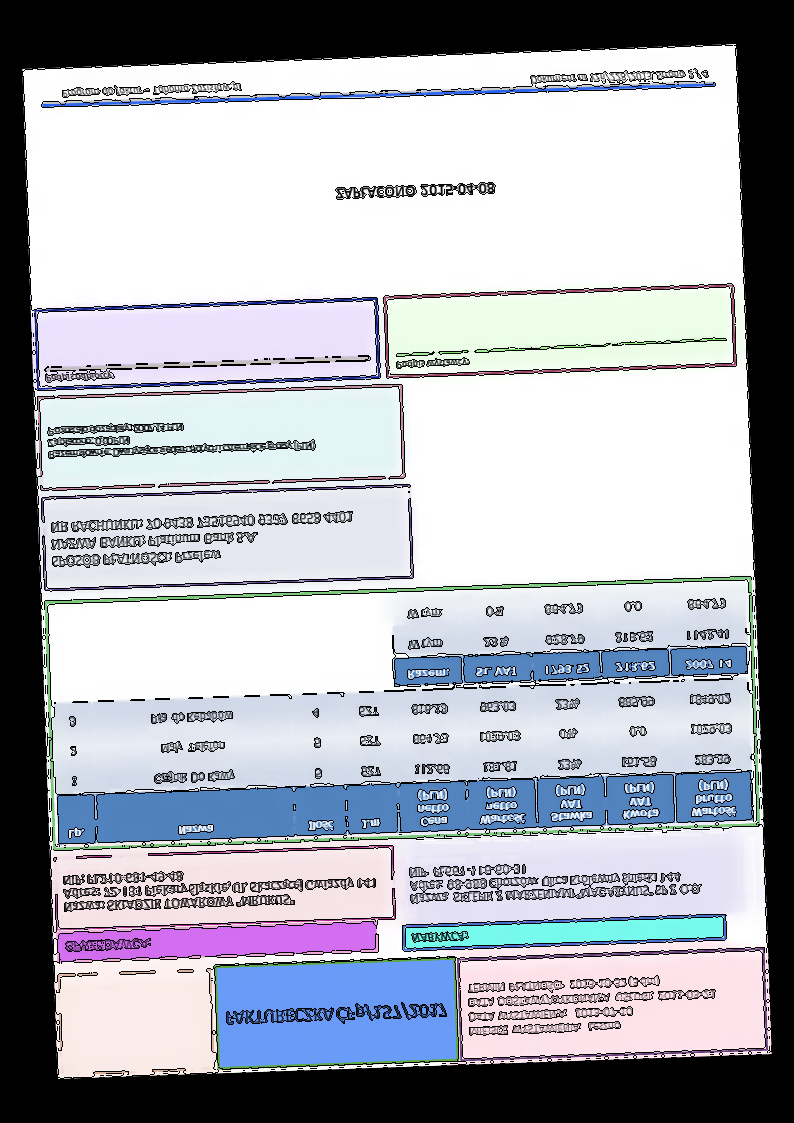Table: (51, 680, 752, 848), (388, 583, 750, 689)
TextBox: (45, 507, 358, 573), (59, 859, 378, 919), (461, 969, 721, 1041), (405, 853, 705, 910), (45, 414, 320, 464), (218, 997, 450, 1035), (55, 76, 244, 106), (328, 177, 499, 207), (528, 65, 714, 88), (60, 936, 153, 956), (42, 366, 117, 389), (388, 354, 471, 374), (408, 927, 468, 947)
